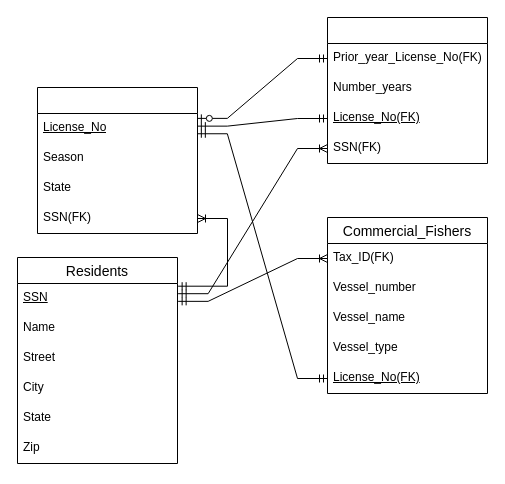
The diagram is 505 pixels wide and 484 high, and some of its shapes have lost their labels. The box of each missing label's shape, as (x1, y1, x2, y2) in pixels:
Licenses: (36, 86, 198, 234)
Sport_Fishers: (326, 16, 488, 164)
